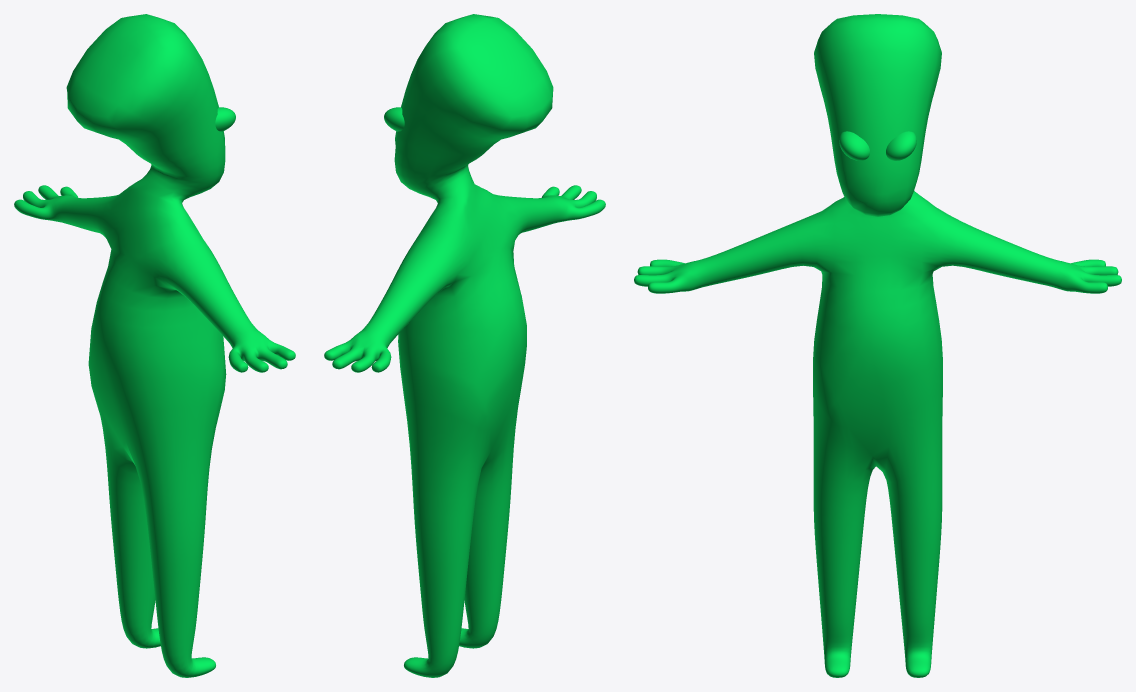
Rendered from Low_poly_alien.glb.
3 views of the same model, side by side, from view 1: azimuth 30°, elevation 25°; view 2: azimuth 150°, elevation 25°; view 3: azimuth 270°, elevation 25° (orthographic).
Visible parts, largest first — view 1: Plane_Material.001_0; view 2: Plane_Material.001_0; view 3: Plane_Material.001_0.
Boxes of the visible parts, box(x1,y1,x2,y2) form: Plane_Material.001_0: box(14, 14, 295, 677); Plane_Material.001_0: box(324, 14, 605, 677); Plane_Material.001_0: box(634, 14, 1121, 677).
Bounding box in the file's own units: 0.482 × 2.02 × 1.38.
